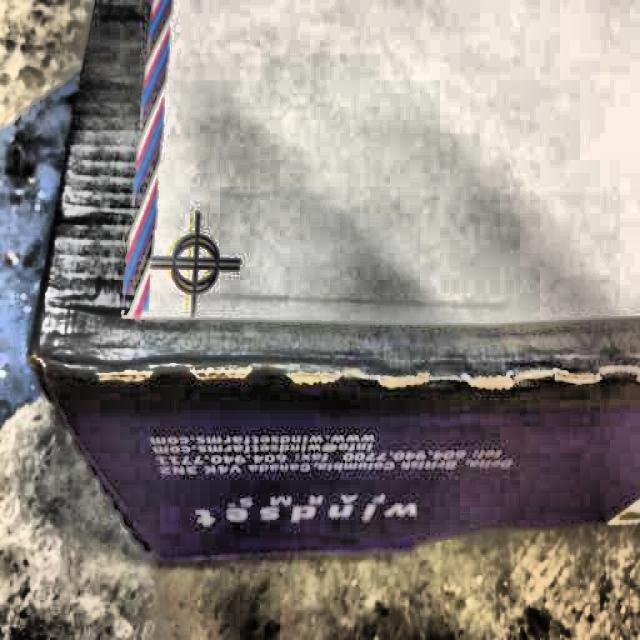cardboard: (34, 21, 634, 542)
